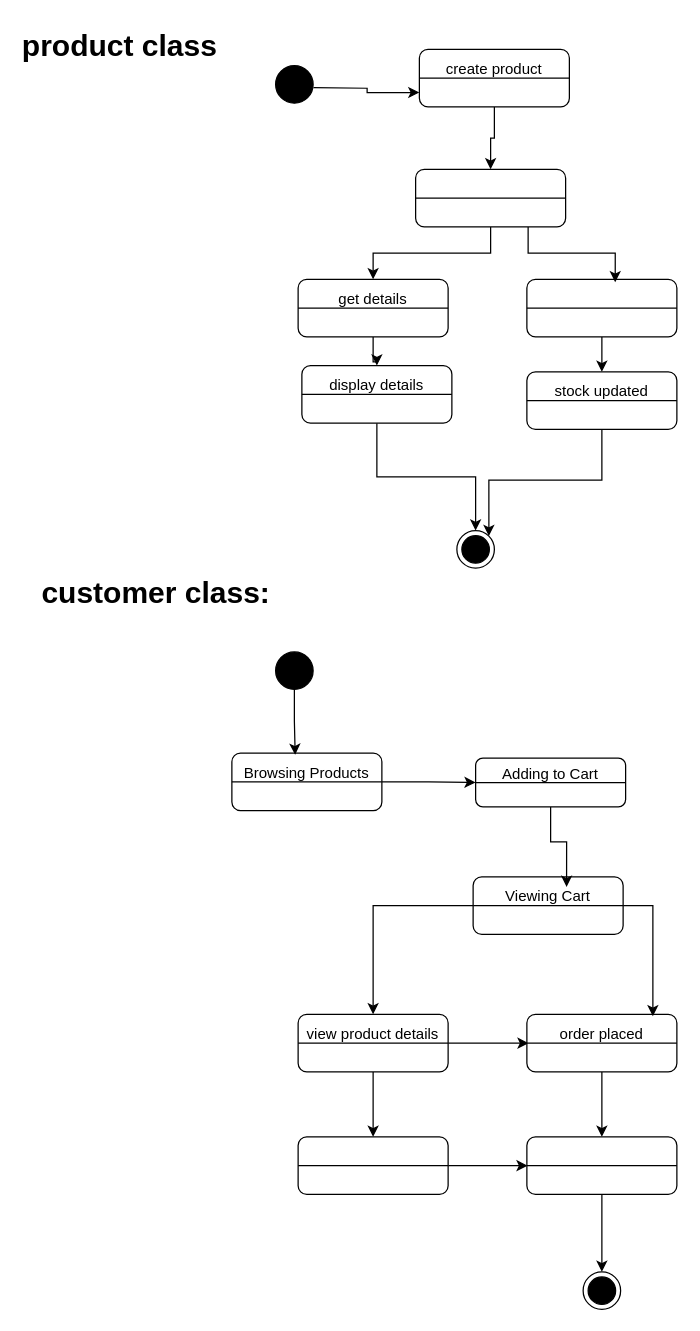
This 700x1331 diagram has some shape labels left out. Here are the shapes that lost their labels. From the top down, the centre of each, then its label:
(490,197): product created
(601,307): update stock
(372,1165): tracking order
(601,1165): order completed
